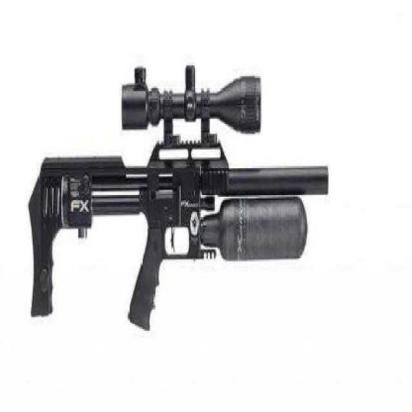Gun: (19, 31, 364, 366)
